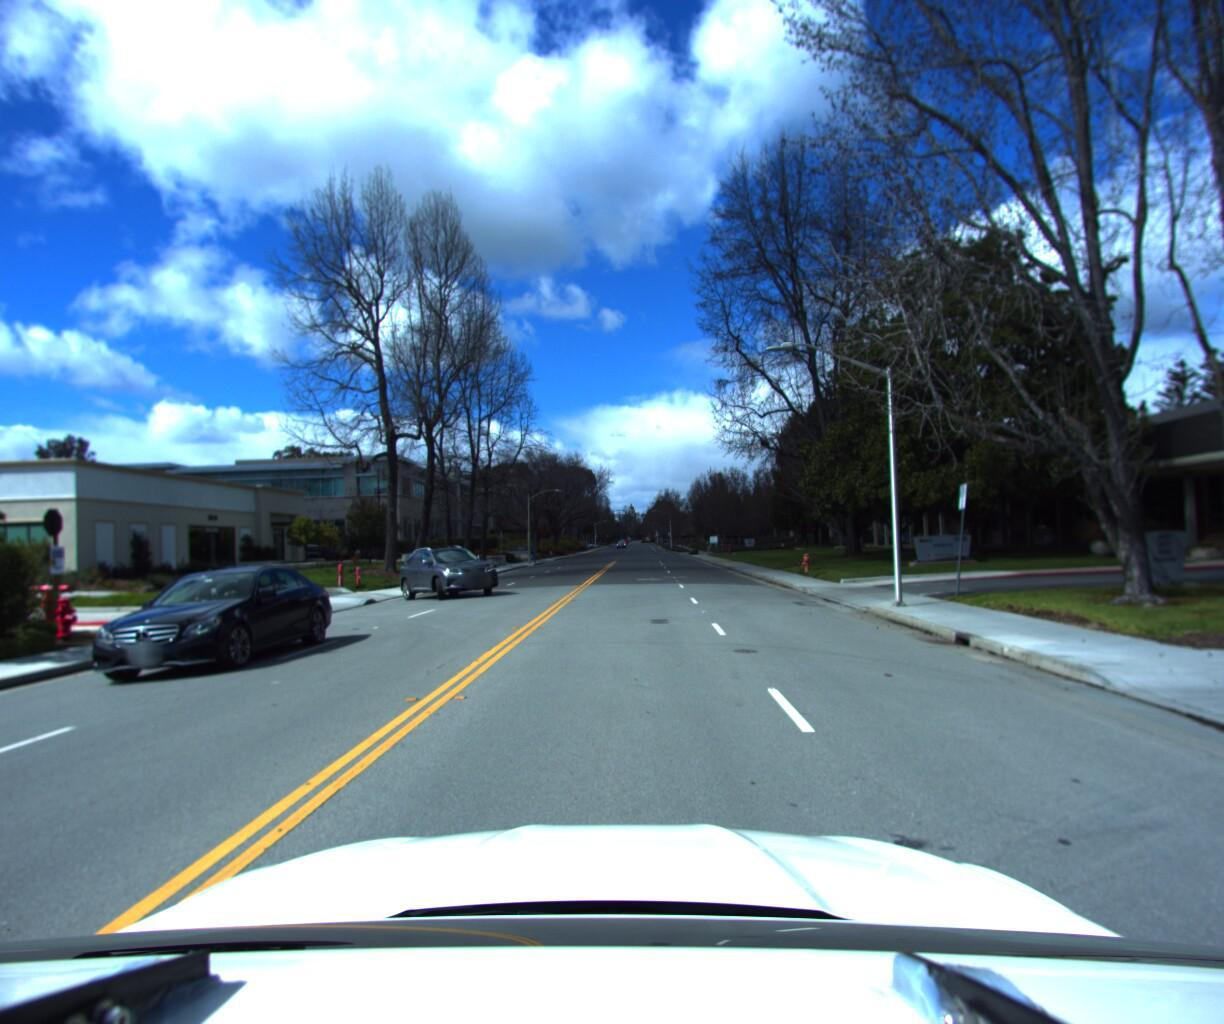car: (69, 561, 347, 699), (389, 544, 508, 605)
